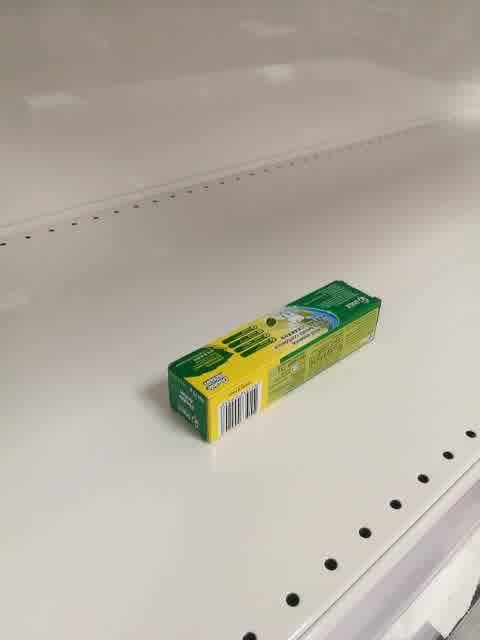toothpaste: (168, 279, 384, 446)
